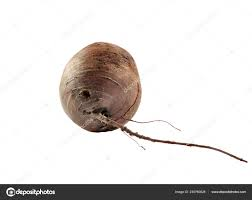beet: (60, 43, 248, 163)
